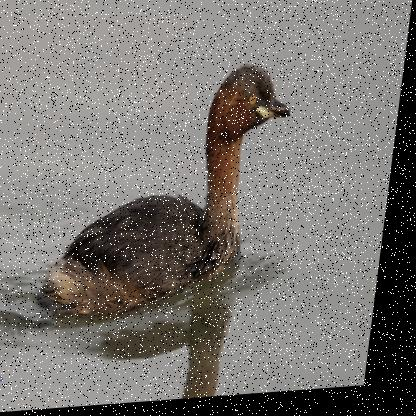Burung: (47, 64, 303, 318)
